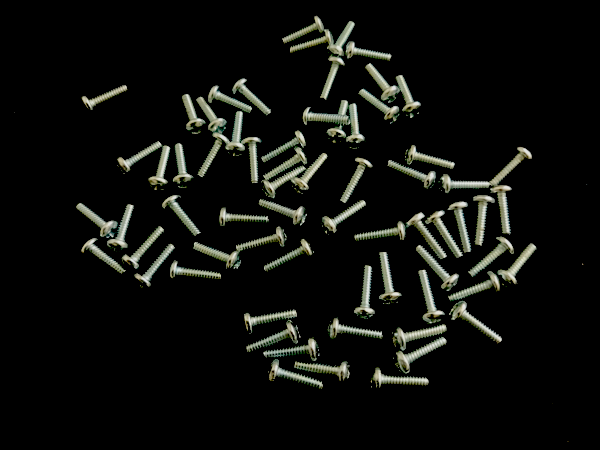shortscrew: (450, 301, 505, 346), (392, 337, 449, 376), (415, 245, 461, 292), (133, 243, 177, 292), (466, 237, 516, 279), (404, 212, 448, 259), (121, 226, 165, 273), (245, 320, 302, 356), (263, 238, 316, 276), (487, 146, 534, 188), (497, 243, 539, 290), (161, 195, 204, 240), (80, 238, 128, 277), (115, 140, 164, 178), (426, 210, 464, 259), (321, 199, 368, 237), (269, 360, 324, 392), (75, 202, 119, 241), (387, 158, 437, 192), (448, 272, 501, 304), (294, 358, 352, 387), (232, 77, 273, 118), (328, 315, 384, 345), (370, 367, 430, 395), (196, 133, 230, 182), (193, 241, 243, 274), (359, 88, 402, 126), (291, 152, 329, 195), (261, 166, 307, 201), (80, 84, 130, 116), (392, 324, 448, 352), (259, 198, 308, 230), (340, 158, 374, 204), (264, 146, 310, 180), (262, 130, 308, 164), (208, 84, 255, 117), (417, 270, 445, 325), (243, 309, 298, 336), (377, 253, 404, 307), (405, 145, 457, 172), (447, 201, 474, 253), (352, 265, 377, 321), (264, 337, 320, 362), (236, 226, 289, 252), (107, 205, 135, 254), (365, 64, 400, 103), (169, 259, 223, 284), (282, 15, 325, 46), (354, 220, 407, 245), (196, 96, 228, 137), (394, 75, 423, 120), (490, 185, 515, 236), (145, 145, 171, 194), (318, 58, 346, 103), (438, 174, 490, 198), (179, 93, 208, 136), (326, 20, 357, 60), (472, 195, 496, 246), (218, 206, 269, 230), (173, 143, 197, 190), (325, 100, 349, 147), (290, 29, 335, 54), (347, 40, 394, 63), (345, 103, 367, 151), (225, 111, 247, 158), (302, 107, 350, 128)
